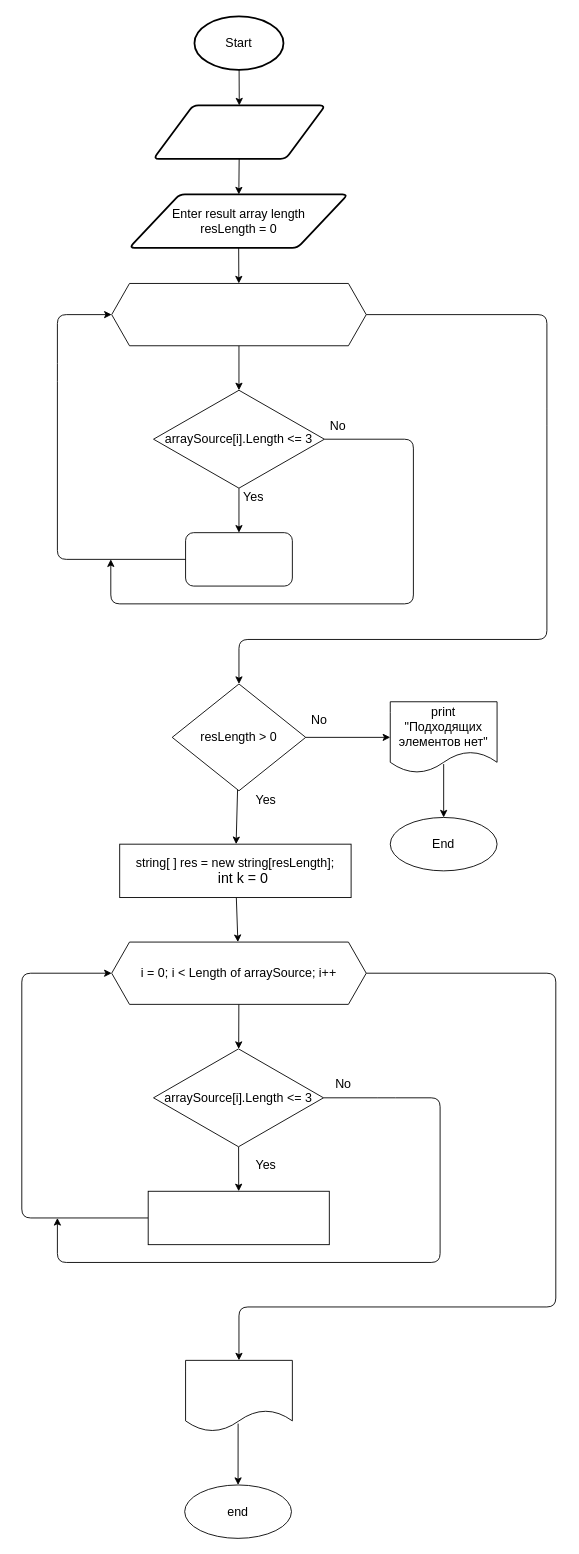
The diagram is 579 pixels wide and 1554 high, and some of its shapes have lost their labels. Each missing label, with the centre of its shape:
"Enter array string[ ] arraySource" belongs at point 239,131.
"i = 0; i < Length of arraySource; i++" belongs at point 238,314.
"print res" belongs at point 238,1395.
"res[k] = arraySource[i]; k++" belongs at point 238,1217.
"resLength++" belongs at point 238,559.
